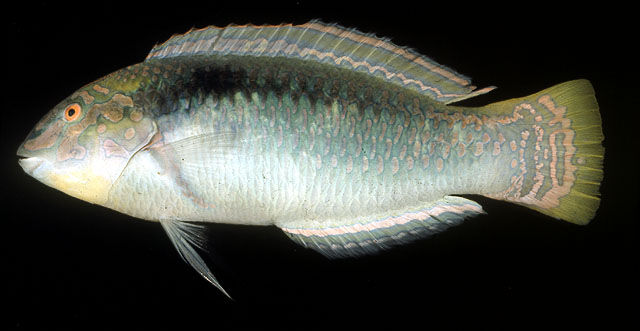fish: (16, 20, 605, 299)
